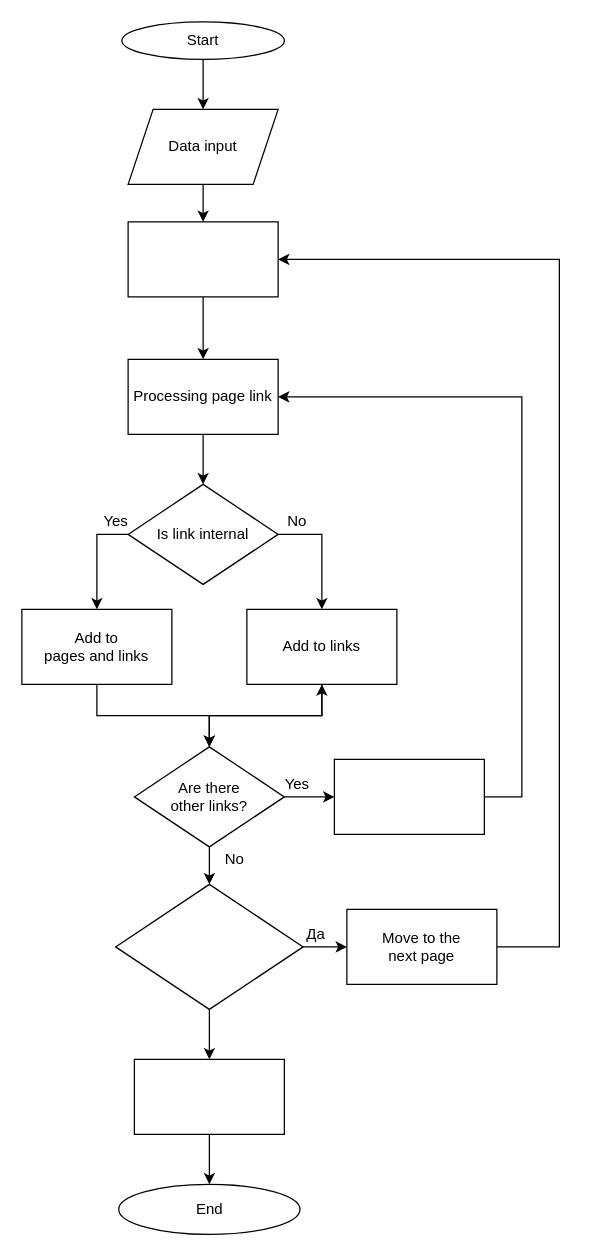
Image size: 591x1256. Some labels were removed from this diagram. Each missing label, with the centre of its shape:
"Are there other unprocessed site pages?" belongs at point 208,946.
"Move to the next link" belongs at point 408,796.
"Output" belongs at point 208,1096.
"Parsing site page" belongs at point 202,259.
